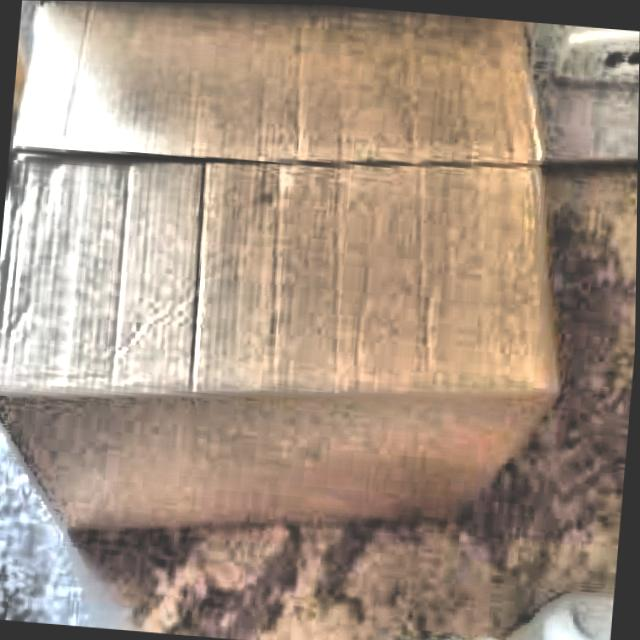Cardbox: (0, 0, 602, 584)
